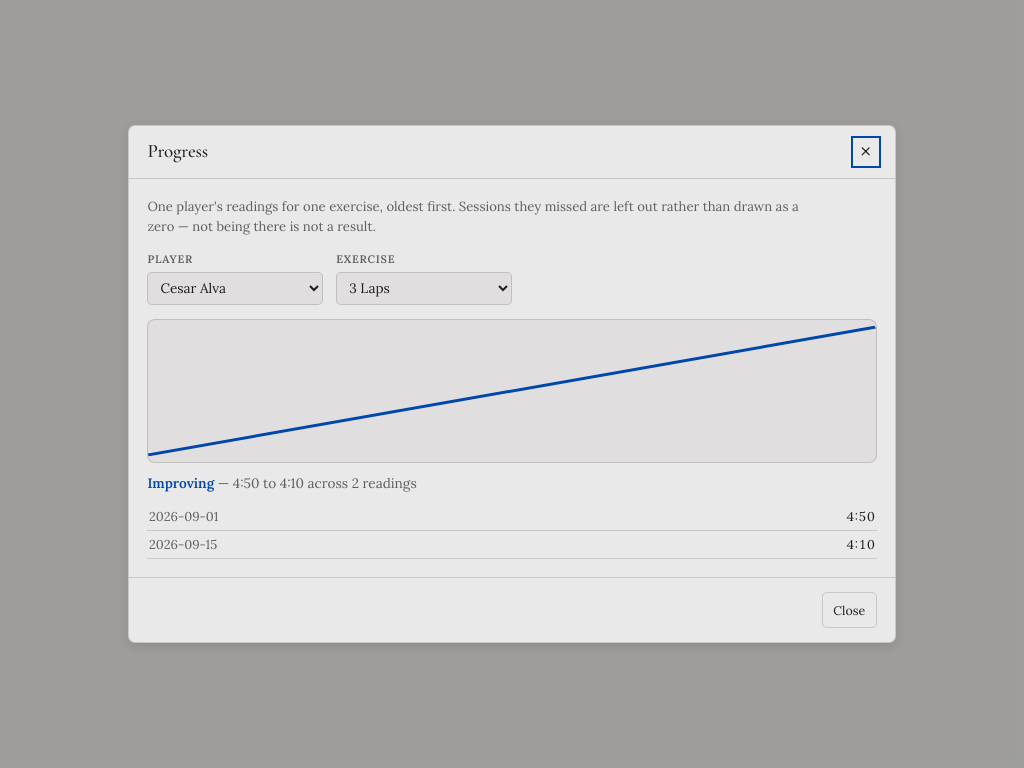
Scenario: THE TREND › is withheld for a single reading
Select "Tom Budde" in the dropdown labelled "Player" at (235, 288), box [147,272,323,305]
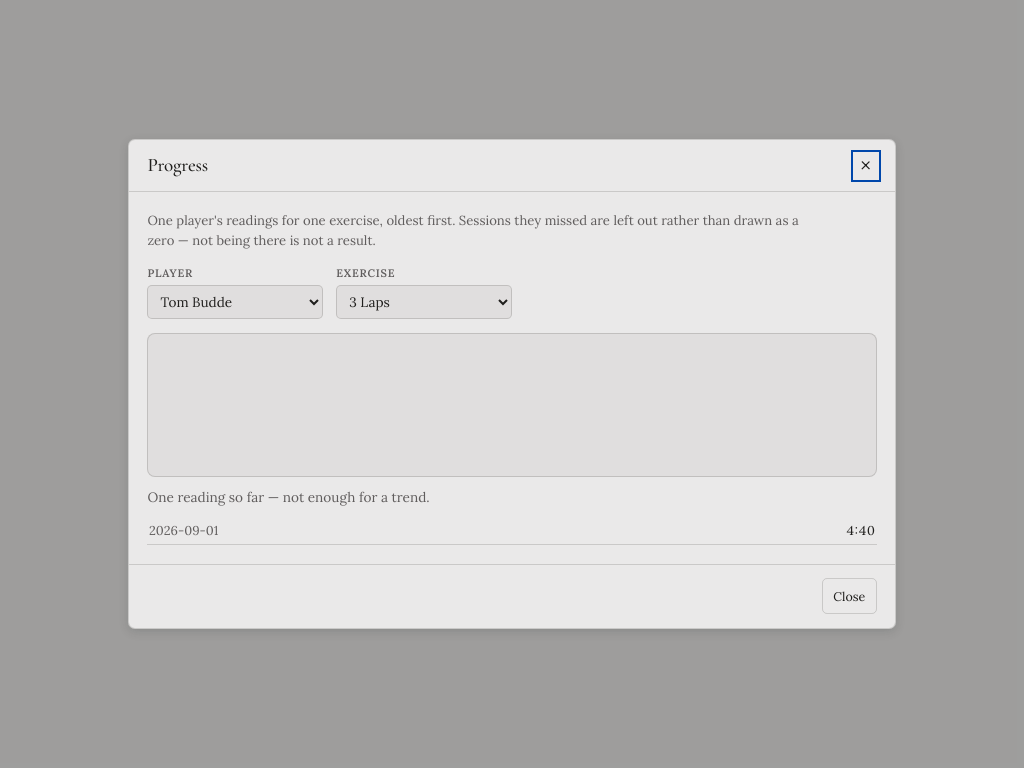
expect the text "One reading so far — not enough for a trend." is shown: met, box [147,488,430,506]
